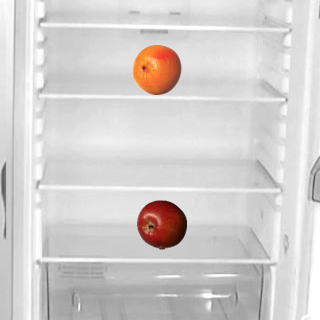Apple Braeburn: (136, 199, 186, 249)
Grapefruit Pink: (131, 44, 181, 94)
